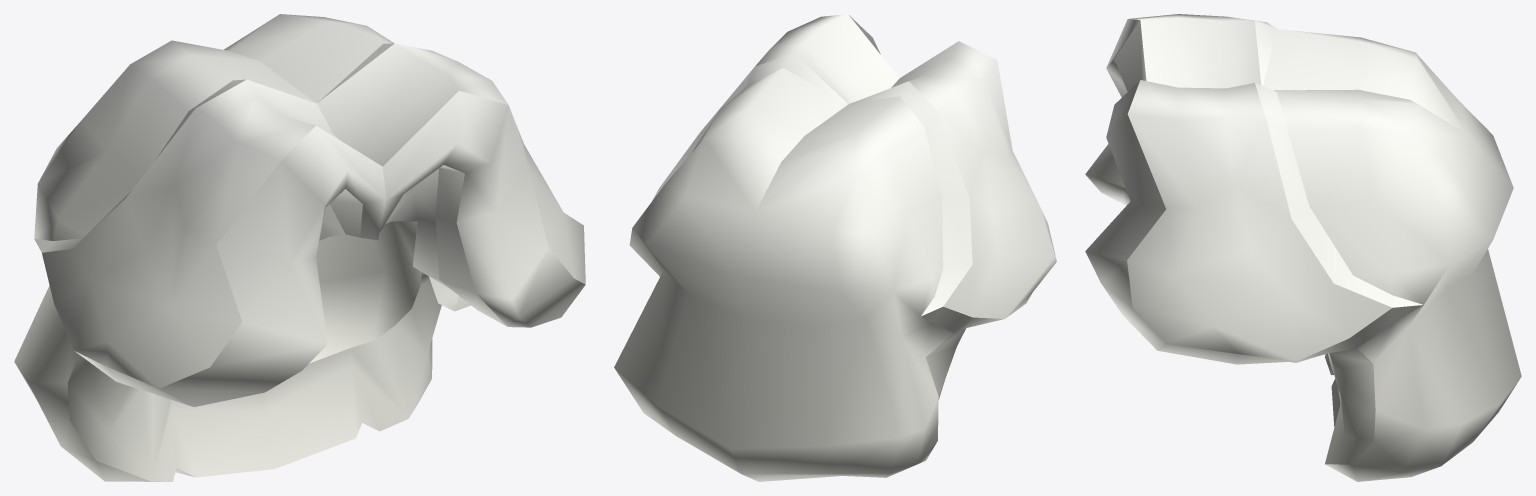
Rendered from Hair_White_6.fbx.
The picture shows the model from 3 angles, left to right: view 1: azimuth 30°, elevation 25°; view 2: azimuth 150°, elevation 25°; view 3: azimuth 270°, elevation 25°; orthographic projection. The views are drawn at different scales.
Parts seen in each view (by area): view 1: Hair_White_6; view 2: Hair_White_6; view 3: Hair_White_6.
Part boxes in pixels (x1=…): Hair_White_6: x1=14, y1=14, x2=585, y2=481; Hair_White_6: x1=614, y1=14, x2=1056, y2=481; Hair_White_6: x1=1085, y1=14, x2=1521, y2=481.
Bounding box in the file's own units: 71.21 × 65.88 × 65.95.
